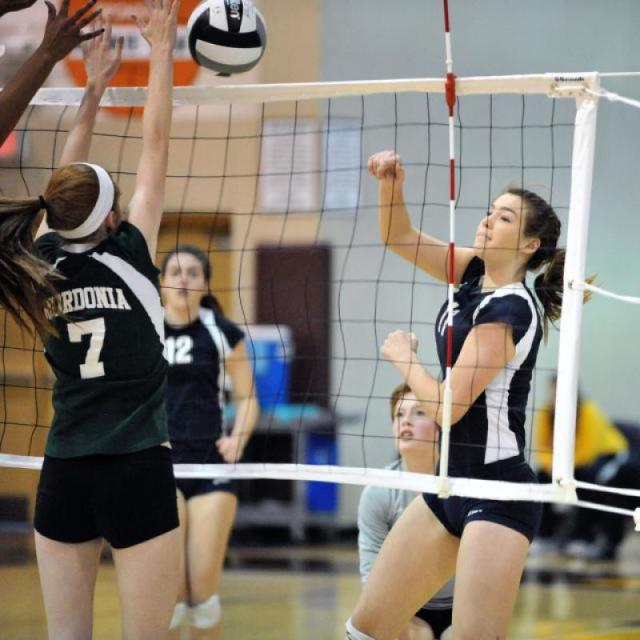volleyball: (184, 0, 267, 78)
